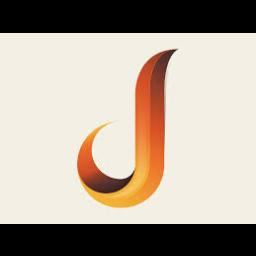j: (62, 44, 198, 224)
